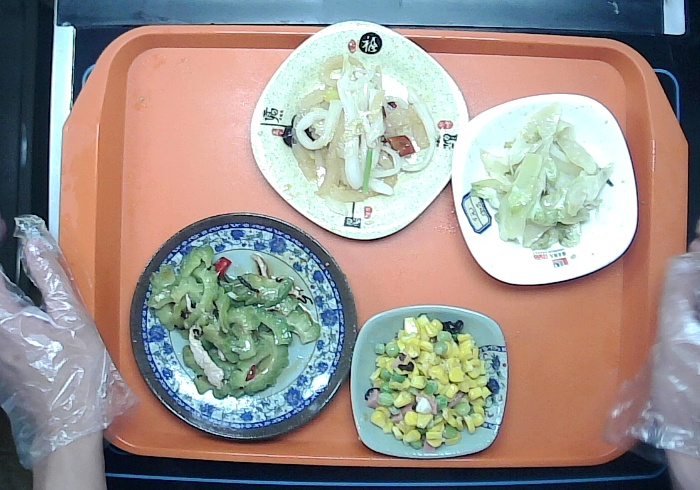NLDX-Bai_Se_Xiao_Fang_Die: (446, 90, 644, 289)
NLDX-Fu_Zi_Fang_Die: (243, 13, 476, 247)
NLDX-Qing_Hua_Xiao_Fang_Die: (347, 300, 513, 466)
NLDX-Qing_Hua_Yuan_Die: (117, 204, 369, 445)
